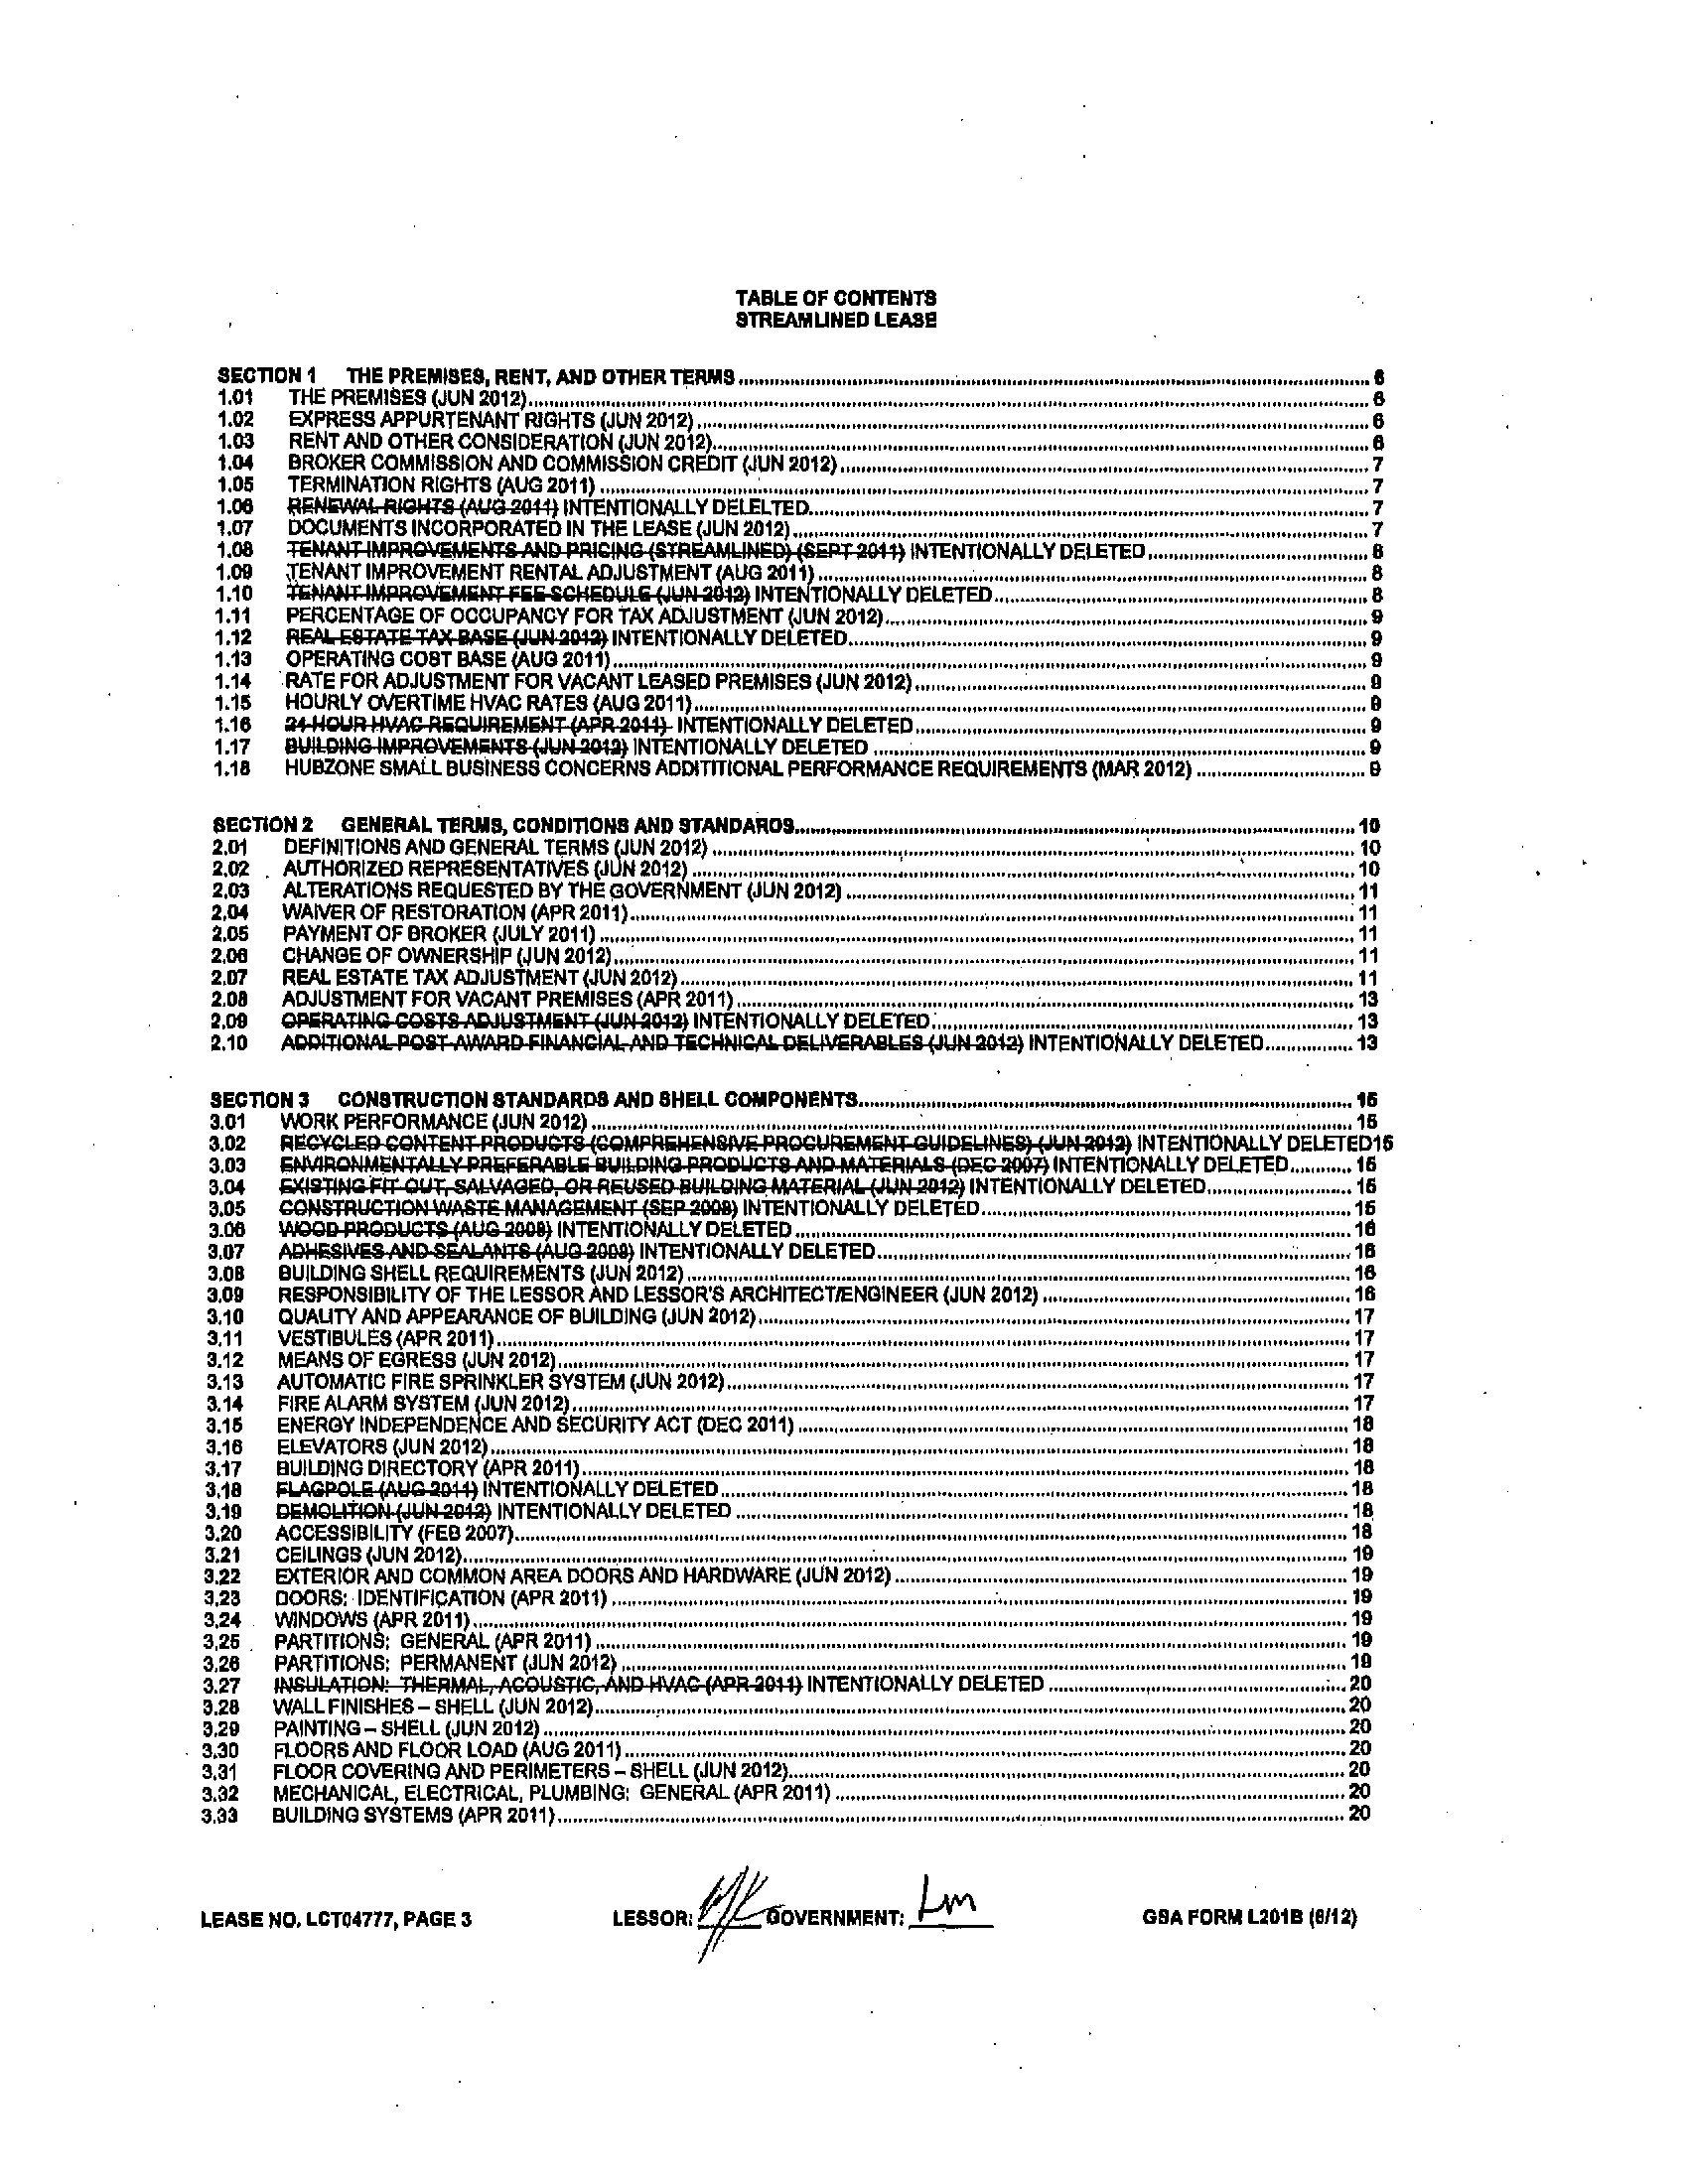handwritten: (684, 1851, 782, 1968), (906, 1849, 989, 1939)
